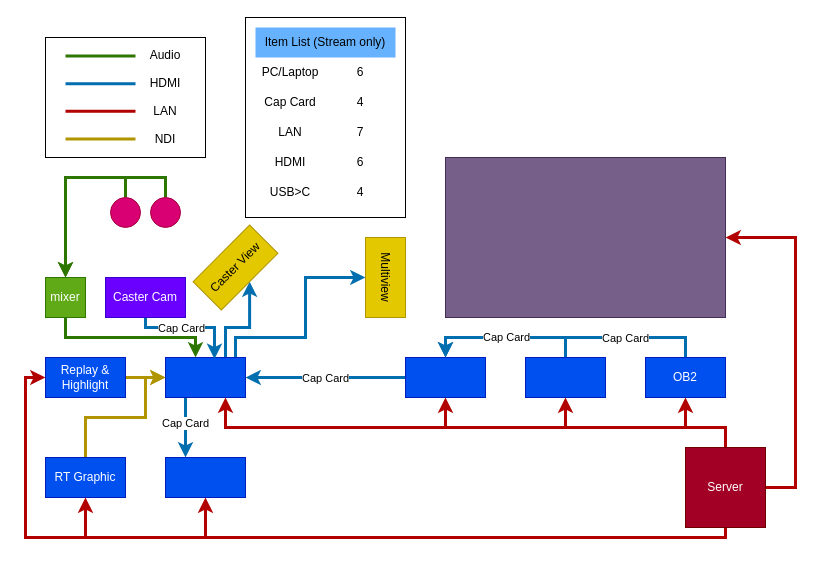
The diagram is 822 pixels wide and 564 high, and some of its shapes have lost their labels. Here are the shapes that lost their labels. From the top down, the centre of each, then its label:
the point at 585,237: Maybe Graphic & Coor
the point at 205,377: Boardcast
the point at 445,377: Switcher
the point at 565,377: OB1
the point at 205,477: LED Stage
